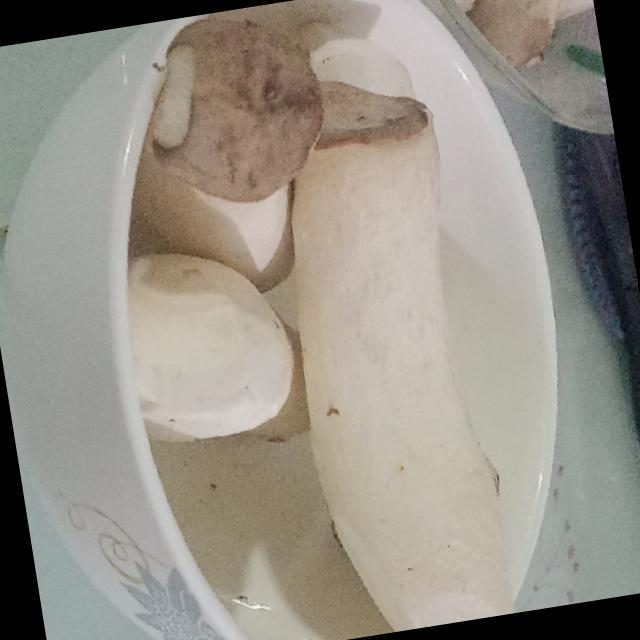Pleurotus eryngii: (79, 0, 521, 640)
